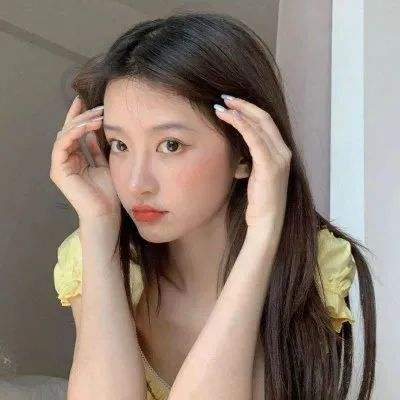person: (52, 17, 347, 400)
